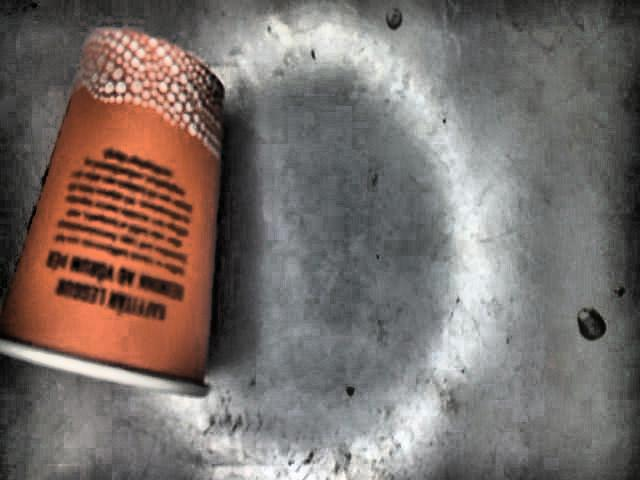Paper: (0, 31, 225, 399)
